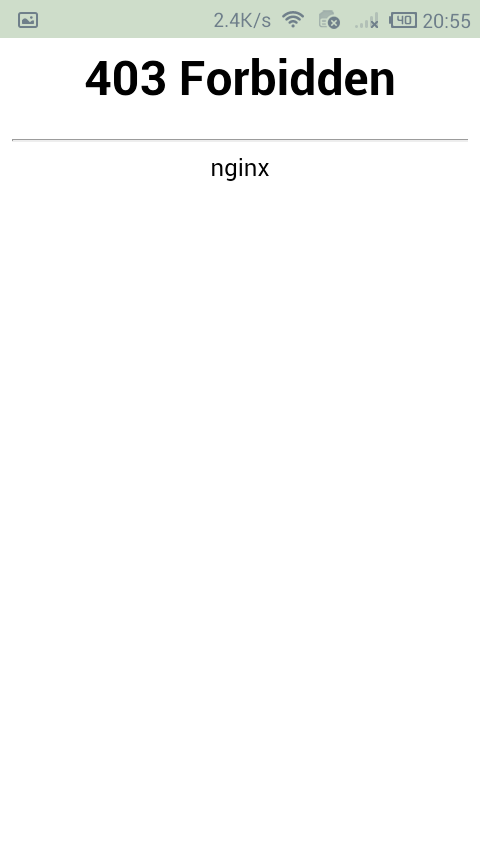textview: (3, 40, 474, 145)
